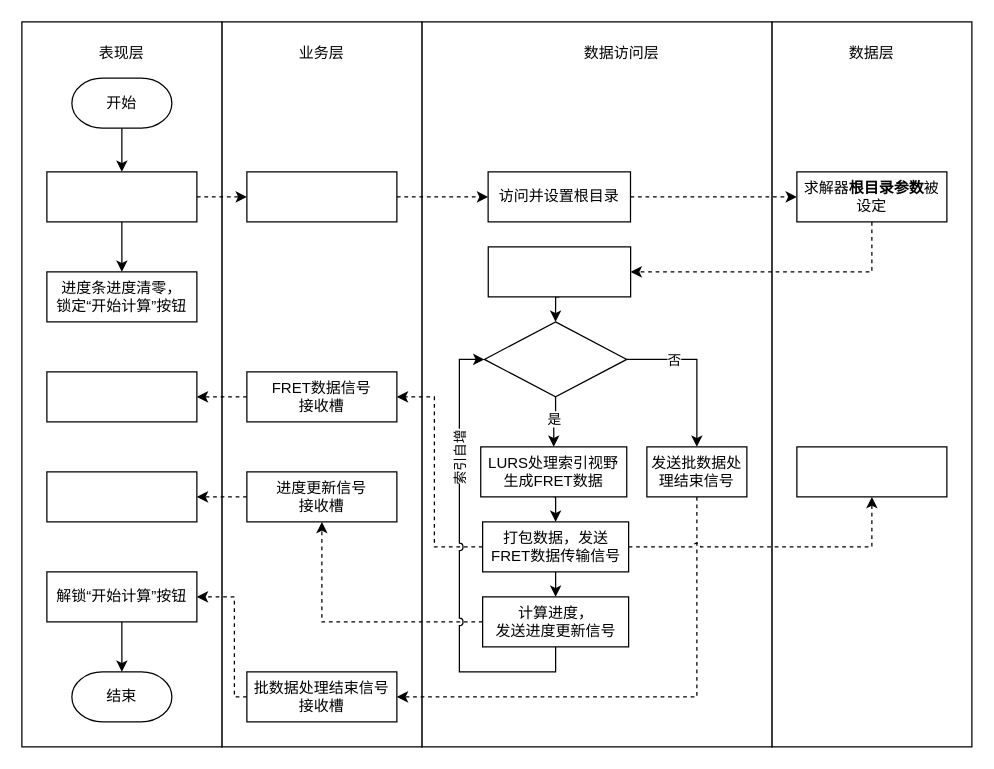
Image size: 994x769. Some labels were removed from this diagram. Here are the shapes that lost their labels. From the top down, the box of each, then its label:
(46, 171, 197, 222): 点击“自动圈点”
(246, 171, 397, 222): 获取当前选中的批数据根目录
(487, 246, 631, 297): 读取子文件夹列表，设置当前索引为0
(483, 321, 627, 397): 索引小于 列表大小？
(46, 371, 197, 422): FRET数据记录入表
(796, 446, 947, 497): 同步FretRecord数据
(46, 471, 197, 522): 同步进度显示、数据添加
